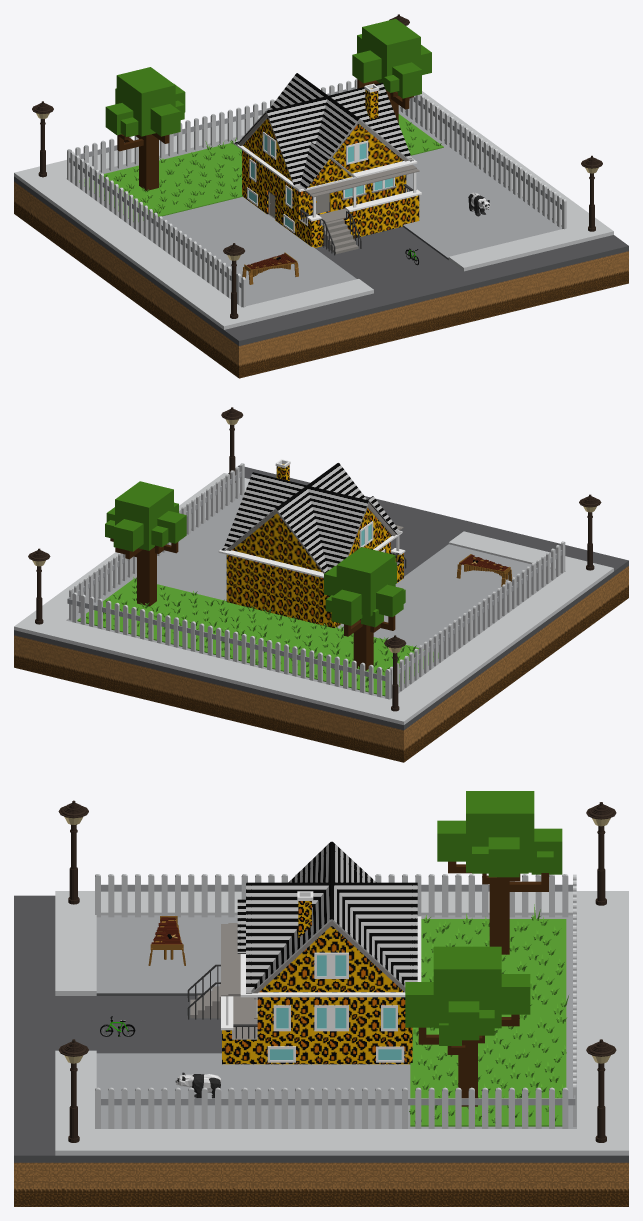
3 views of the same model, one above another, from view 1: azimuth 30°, elevation 25°; view 2: azimuth 150°, elevation 25°; view 3: azimuth 270°, elevation 25° (orthographic). The views are drawn at different scales.
Visible parts, largest first — view 1: Cube.004, Cube.637, OBJRANDOM_MARIMBA; view 2: Cube.004, Cube.637, OBJRANDOM_MARIMBA; view 3: Cube.004, Cube.637, OBJRANDOM_MARIMBA, ANIMAL_PANDA.
Part boxes in pixels (box(x1,y1,x2,y2)): Cube.004: box(14, 14, 628, 378); Cube.637: box(233, 73, 421, 255); OBJRANDOM_MARIMBA: box(242, 252, 298, 284); Cube.004: box(14, 407, 628, 762); Cube.637: box(218, 459, 406, 627); OBJRANDOM_MARIMBA: box(456, 554, 512, 586); Cube.004: box(14, 791, 628, 1206); Cube.637: box(187, 841, 421, 1064); OBJRANDOM_MARIMBA: box(148, 916, 185, 965); ANIMAL_PANDA: box(175, 1072, 221, 1098).
Bounding box in the file's own units: 4000 × 1600 × 4000.
31 materials, 4 textured.
